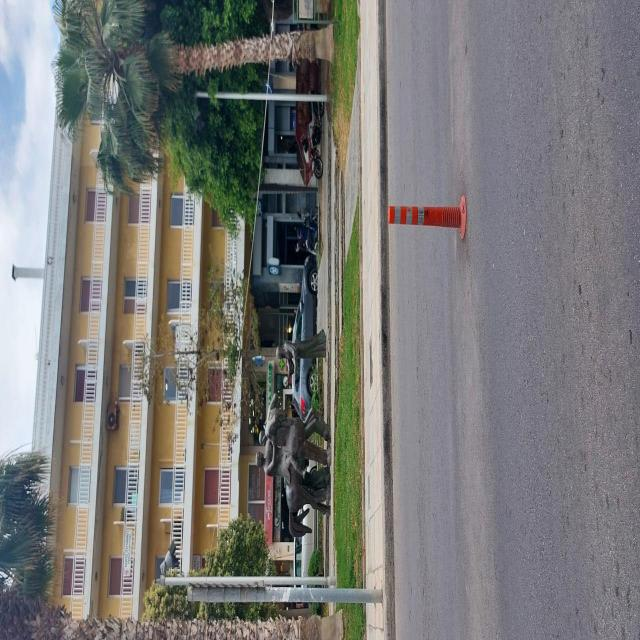Aretousa: (47, 568, 142, 640)
